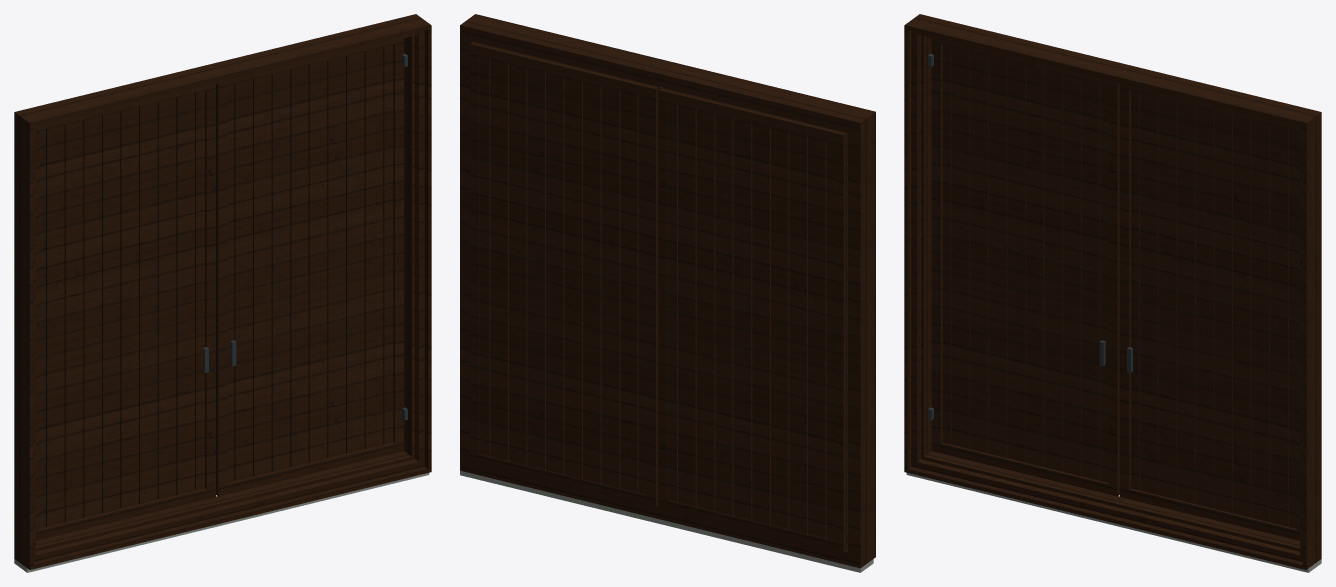
Rendered from madera_rectangle_porton.glb.
3 renders of one model, left to right at view 1: azimuth 30°, elevation 25°; view 2: azimuth 150°, elevation 25°; view 3: azimuth 330°, elevation 25°, orthographic.
Parts seen in each view (by area): view 1: door_leaf_frame#0002, door_reveal#0001, door_moulding#0020, door_leaf_frame#0001, door_board#0008, door_board#0016, door_board#0019, door_board#0003, door_board#0014, door_board#0013, door_board#0002, door_board#0004 (+32 smaller); view 2: door_reveal#0001, door_leaf_frame#0001, door_leaf_frame#0002, door_moulding#0020, door_board#0006, door_board#0008, door_board#0013, door_board#0012, door_board#0005, door_board#0014, door_board#0003, door_board#0007 (+13 smaller); view 3: door_leaf_frame#0001, door_reveal#0001, door_moulding#0020, door_leaf_frame#0002, door_board#0013, door_board#0002, door_board#0005, door_board#0007, door_board#0018, door_board#0017, door_board#0019, door_board#0003 (+32 smaller).
Part boxes in pixels (bbox=[...]): door_leaf_frame#0002: bbox=[216, 38, 404, 496]; door_reveal#0001: bbox=[14, 14, 421, 562]; door_moulding#0020: bbox=[20, 18, 431, 569]; door_leaf_frame#0001: bbox=[35, 84, 215, 540]; door_board#0008: bbox=[157, 97, 176, 499]; door_board#0016: bbox=[308, 60, 327, 462]; door_board#0019: bbox=[364, 47, 383, 449]; door_board#0003: bbox=[64, 120, 83, 522]; door_board#0014: bbox=[271, 69, 290, 471]; door_board#0013: bbox=[253, 74, 271, 476]; door_board#0002: bbox=[46, 124, 64, 526]; door_board#0004: bbox=[83, 115, 101, 517]; door_reveal#0001: bbox=[460, 20, 867, 568]; door_leaf_frame#0001: bbox=[658, 87, 847, 552]; door_leaf_frame#0002: bbox=[470, 41, 660, 507]; door_moulding#0020: bbox=[466, 14, 875, 562]; door_board#0006: bbox=[733, 118, 752, 520]; door_board#0008: bbox=[696, 109, 715, 511]; door_board#0013: bbox=[601, 86, 620, 487]; door_board#0012: bbox=[620, 90, 638, 492]; door_board#0005: bbox=[752, 122, 770, 524]; door_board#0014: bbox=[583, 81, 601, 483]; door_board#0003: bbox=[789, 132, 807, 533]; door_board#0007: bbox=[715, 113, 733, 515]; door_leaf_frame#0001: bbox=[931, 38, 1119, 496]; door_reveal#0001: bbox=[914, 14, 1321, 562]; door_moulding#0020: bbox=[904, 18, 1315, 569]; door_leaf_frame#0002: bbox=[1120, 84, 1300, 540]; door_board#0013: bbox=[1158, 97, 1177, 499]; door_board#0002: bbox=[951, 46, 970, 448]; door_board#0005: bbox=[1007, 60, 1026, 462]; door_board#0007: bbox=[1044, 69, 1063, 471]; door_board#0018: bbox=[1251, 120, 1270, 521]; door_board#0017: bbox=[1233, 115, 1251, 517]; door_board#0019: bbox=[1270, 124, 1288, 526]; door_board#0003: bbox=[970, 51, 988, 453].
Size of the model in its own units: 3.2 by 3.44 by 0.258.
3 materials, 1 textured.
